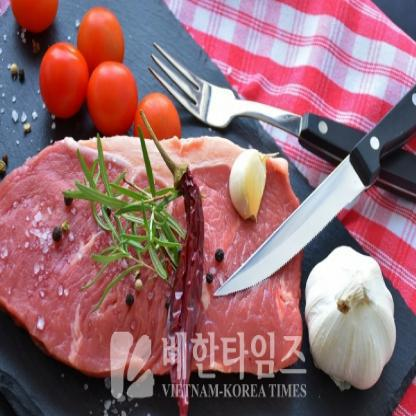beef: (13, 122, 296, 332)
garlic: (315, 251, 396, 391), (227, 138, 269, 224)
